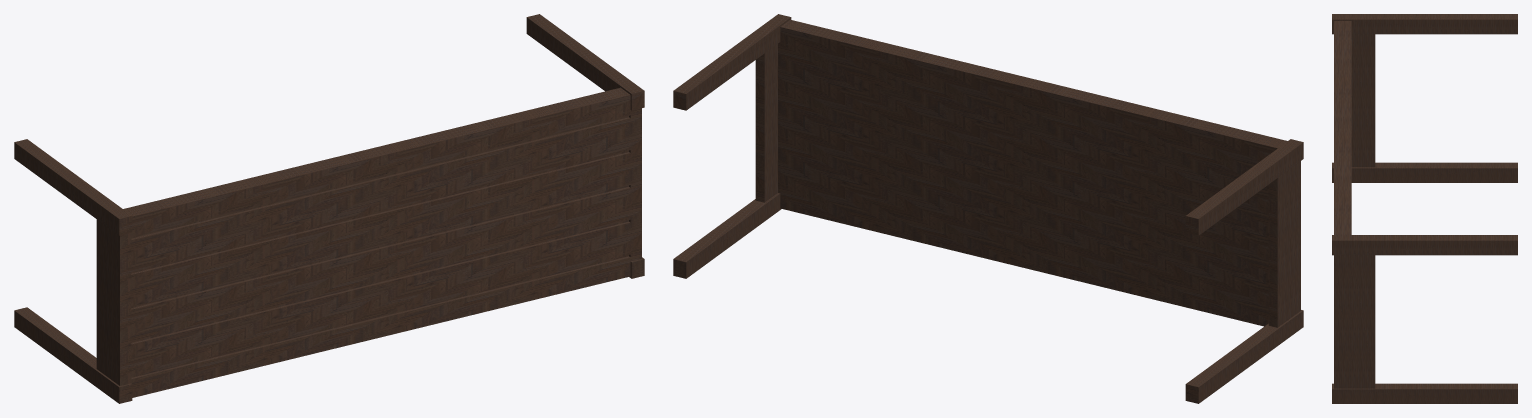
Rendered from Long Table.glb.
3 renders of one model, left to right at view 1: azimuth 30°, elevation 25°; view 2: azimuth 150°, elevation 25°; view 3: azimuth 270°, elevation 25°, orthographic. The views are drawn at different scales.
Parts seen in each view (by area): view 1: Cube.008; view 2: Cube.008; view 3: Cube.008.
Part boxes in pixels (x1,y1,x2,y2): Cube.008: (14, 14, 644, 403); Cube.008: (673, 14, 1303, 403); Cube.008: (1332, 14, 1517, 403).
Size of the model in its own units: 151 by 50.9 by 52.45.
Materials: 1 (1 with a texture image).
